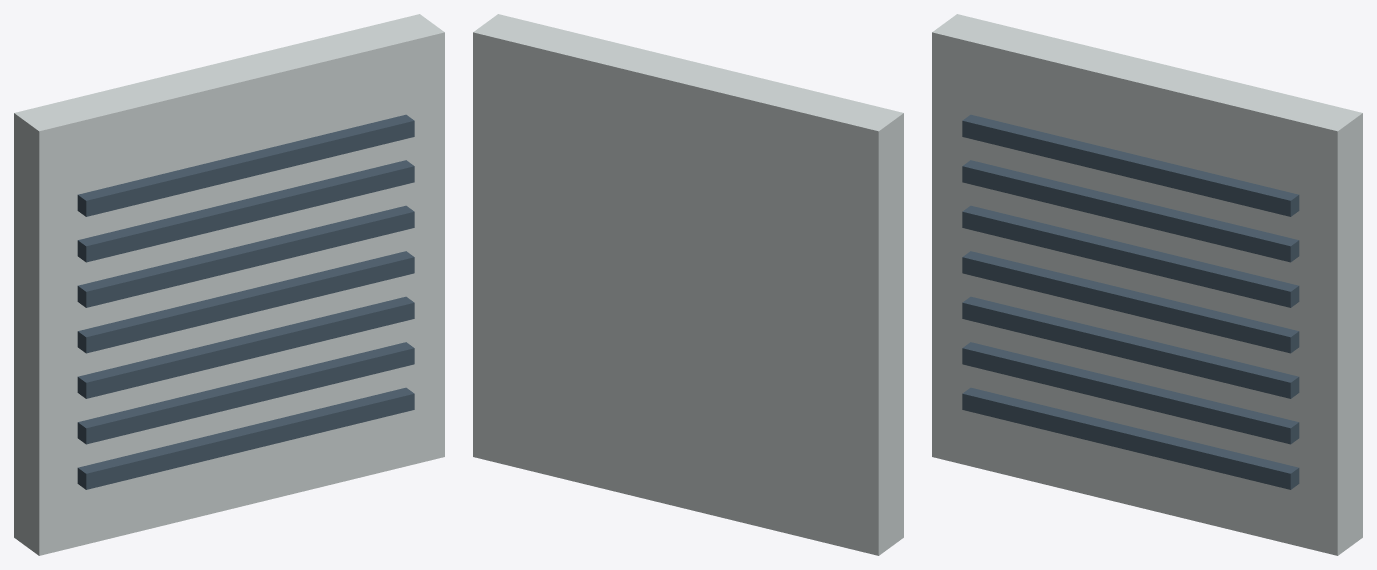
File: vent.glb
3 renders of one model, left to right at view 1: azimuth 30°, elevation 25°; view 2: azimuth 150°, elevation 25°; view 3: azimuth 330°, elevation 25°, orthographic.
Visible parts, largest first — view 1: _MeshInstance3D_738, _MeshInstance3D_740, _MeshInstance3D_743, _MeshInstance3D_745, _MeshInstance3D_739, _MeshInstance3D_741, _MeshInstance3D_742, _MeshInstance3D_744; view 2: _MeshInstance3D_738; view 3: _MeshInstance3D_738, _MeshInstance3D_740, _MeshInstance3D_743, _MeshInstance3D_745, _MeshInstance3D_739, _MeshInstance3D_741, _MeshInstance3D_742, _MeshInstance3D_744.
Boxes of the visible parts, x1,y1,x2,y2 form: _MeshInstance3D_738: (14, 14, 444, 555); _MeshInstance3D_740: (77, 342, 414, 444); _MeshInstance3D_743: (77, 205, 414, 307); _MeshInstance3D_745: (77, 114, 414, 216); _MeshInstance3D_739: (77, 387, 414, 489); _MeshInstance3D_741: (77, 296, 414, 398); _MeshInstance3D_742: (77, 251, 414, 353); _MeshInstance3D_744: (77, 160, 414, 262); _MeshInstance3D_738: (473, 14, 903, 555); _MeshInstance3D_738: (932, 14, 1362, 555); _MeshInstance3D_740: (962, 342, 1299, 444); _MeshInstance3D_743: (962, 205, 1299, 307); _MeshInstance3D_745: (962, 114, 1299, 216); _MeshInstance3D_739: (962, 387, 1299, 489); _MeshInstance3D_741: (962, 296, 1299, 398); _MeshInstance3D_742: (962, 251, 1299, 353); _MeshInstance3D_744: (962, 160, 1299, 262).
Bounding box in the file's own units: 0.42 × 0.42 × 0.06.
